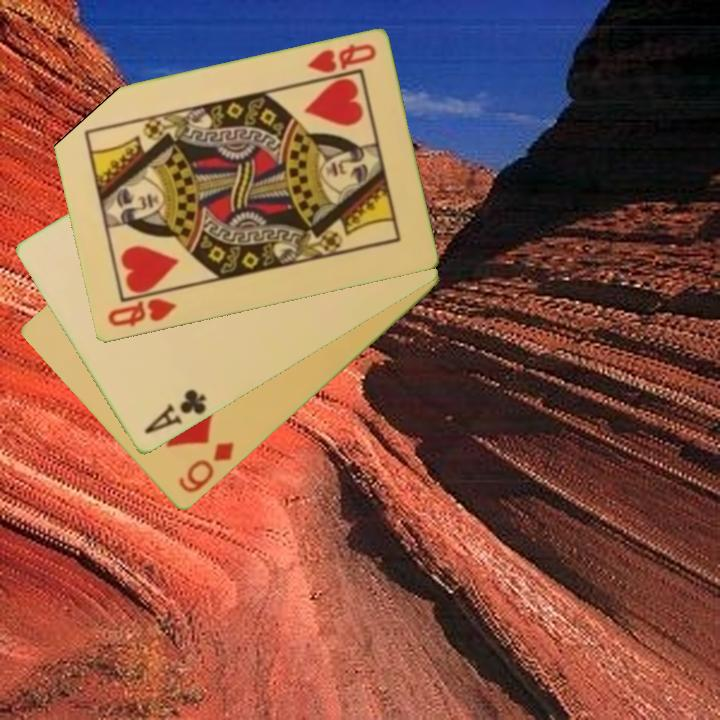6d: (175, 438, 237, 497)
Ac: (140, 386, 210, 438)
Qh: (303, 40, 379, 77), (104, 295, 180, 330)
